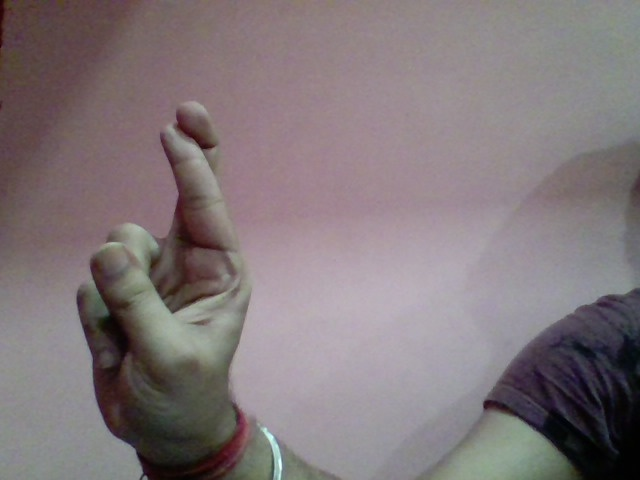r: (69, 100, 265, 438)
